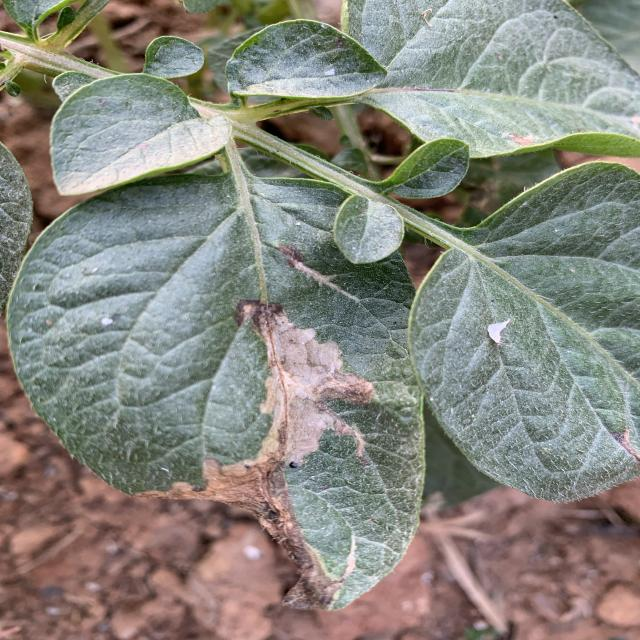lateblight: (180, 300, 375, 544)
